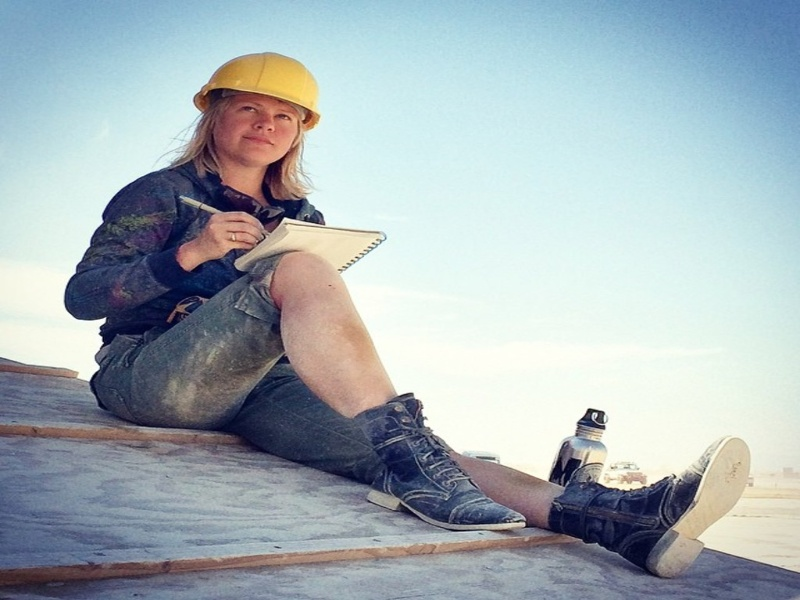Baret: (195, 52, 322, 129)
